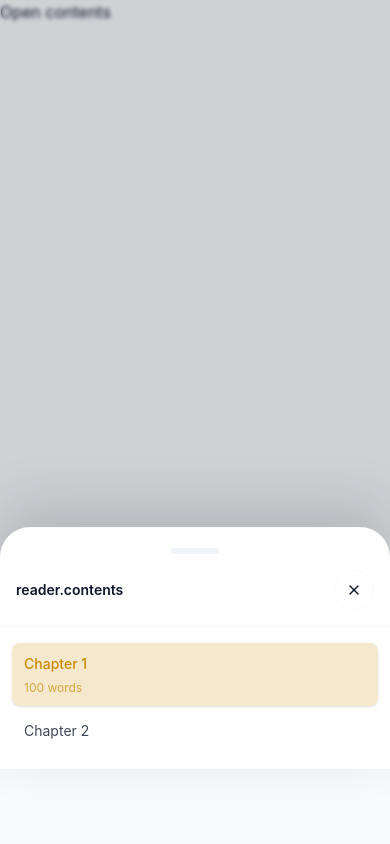
Test: ReaderSidebar › scrolls the active chapter into view and closes after a chapter is selected
Click the button "Chapter 2": [57, 730] box [12,709,378,752]
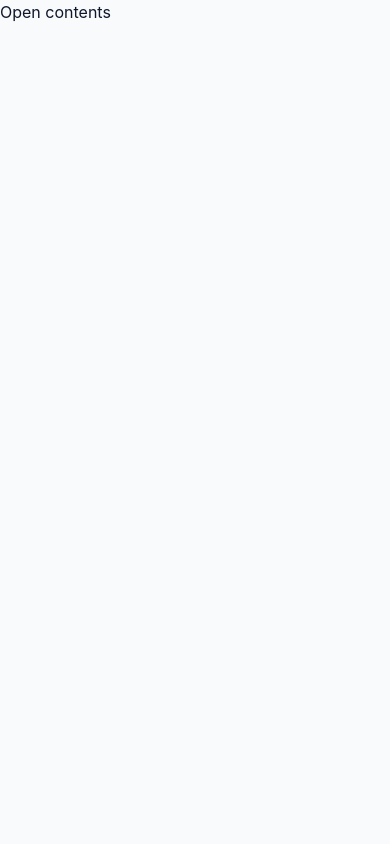
expect the dialog is gone: met
